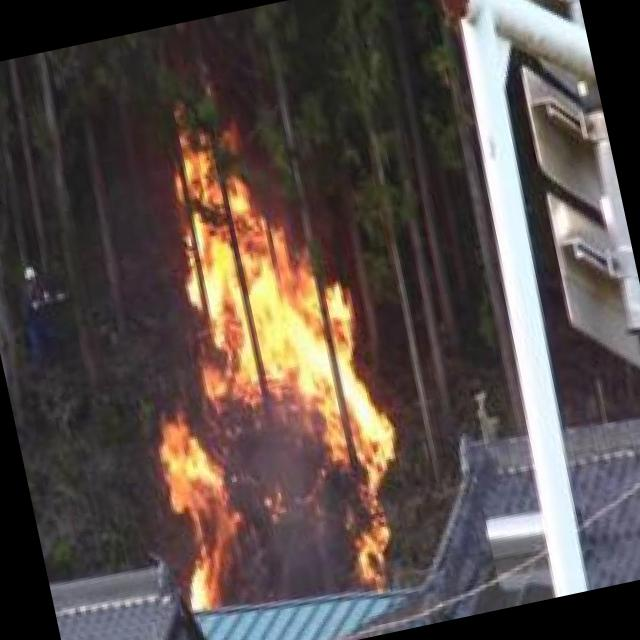Fire: (98, 109, 416, 623)
